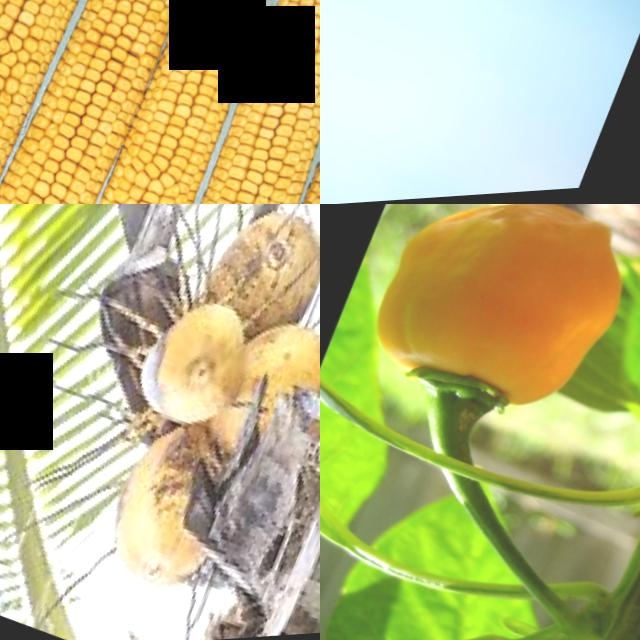coconut: (88, 420, 231, 603), (121, 288, 268, 451), (196, 204, 320, 348), (320, 0, 605, 46)
corn: (26, 0, 320, 204), (0, 0, 247, 204), (107, 0, 320, 204), (0, 0, 158, 204), (184, 0, 320, 204), (0, 0, 64, 204)
